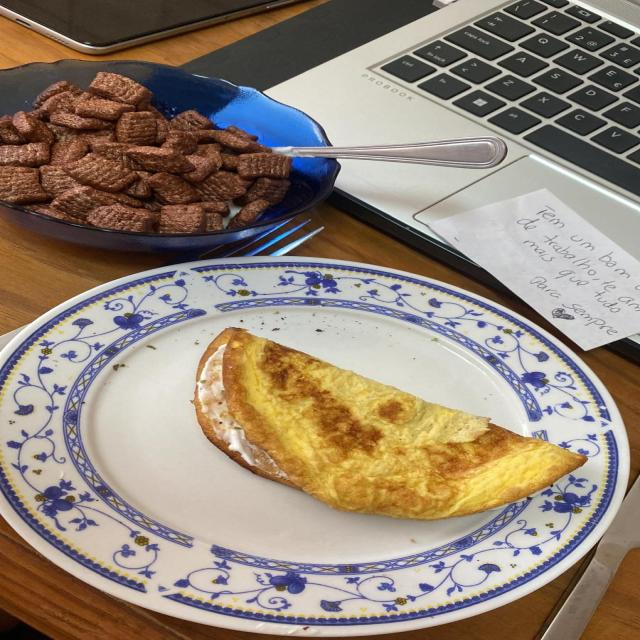cereals: (0, 72, 291, 234)
omelet: (193, 328, 585, 520)
plate: (0, 257, 630, 636)
spoon: (272, 136, 507, 169)
